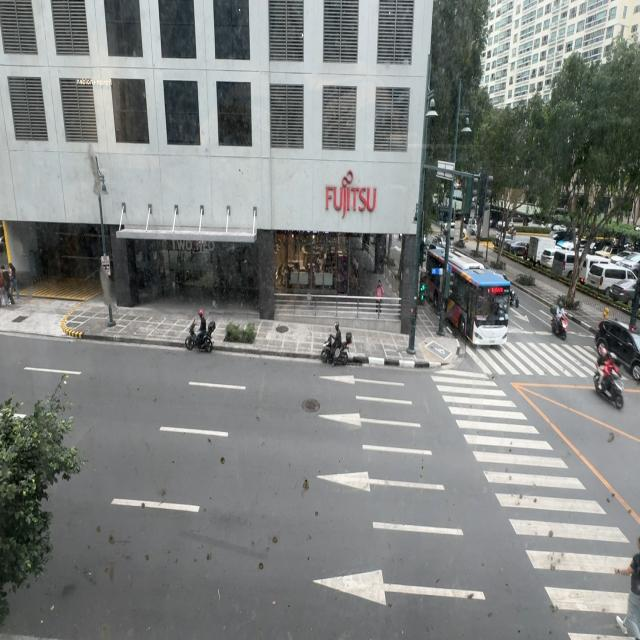crossing: (607, 509, 640, 640)
pedestrain: (0, 266, 12, 308), (8, 263, 20, 303), (375, 280, 384, 316)
